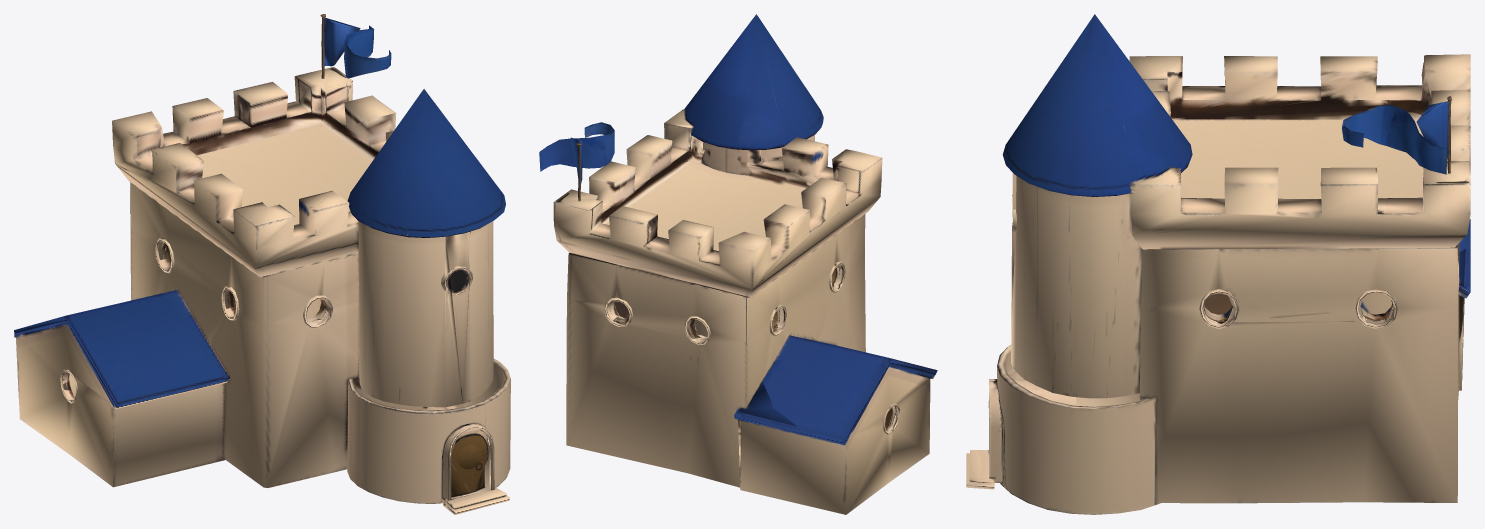
File: meshy-c6-v1.glb
3 renders of one model, left to right at view 1: azimuth 30°, elevation 25°; view 2: azimuth 150°, elevation 25°; view 3: azimuth 270°, elevation 25°, orthographic. The views are drawn at different scales.
Bounding box in the file's own units: 0.9489 × 0.9998 × 1.
Materials: 1 (1 with a texture image).
